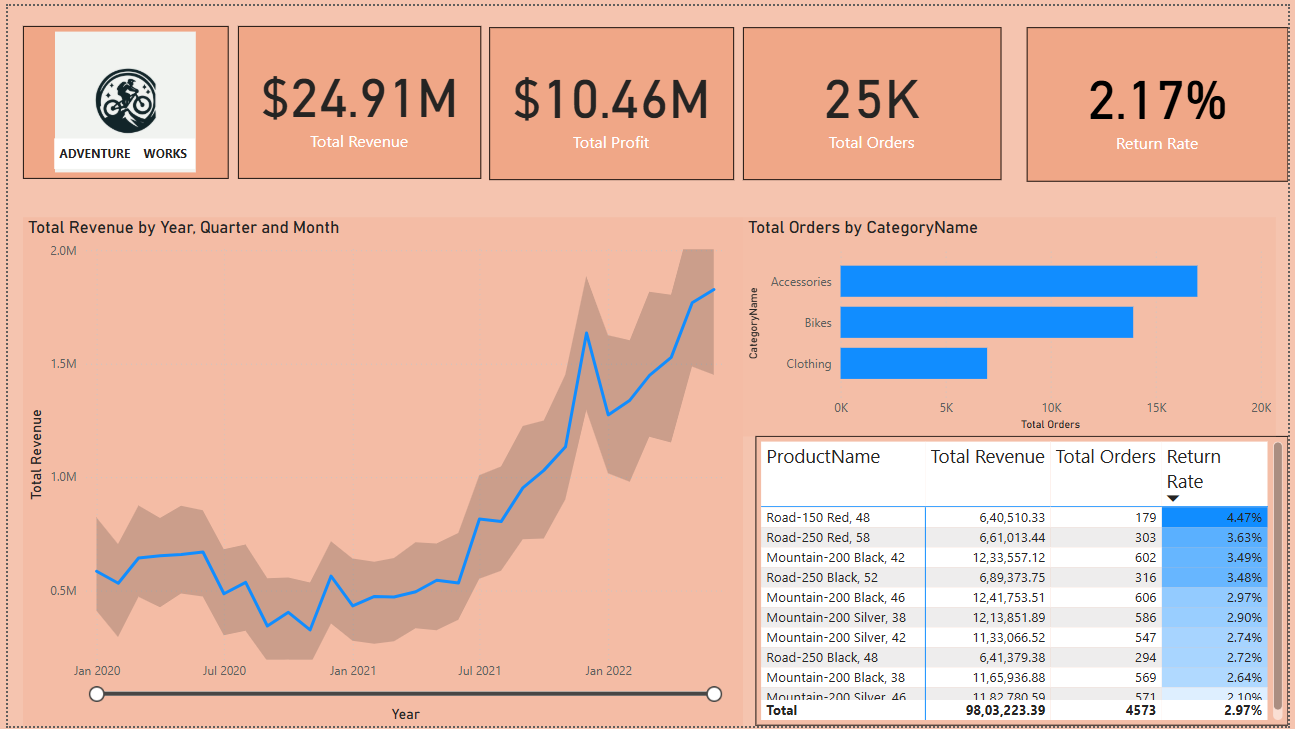

The dashboard page shown, as its layout file describes it:
{"tool":"powerbi","page":{"name":"Dashboard","canvas":[1280,720],"ordinal":0},"visuals":[{"type":"card","fields":{"Values":["MEASURE TABLE.Total Revenue"]},"box":[229.9,19.6,243.3,152.9],"z":0},{"type":"card","fields":{"Values":["MEASURE TABLE.Total Profit"]},"box":[481.8,20.8,244.6,152.9],"z":1000},{"type":"card","fields":{"Values":["MEASURE TABLE.Total Orders"]},"box":[734.9,20.8,258,152.9],"z":2000},{"type":"card","fields":{"Values":["MEASURE TABLE.Return Rate"]},"box":[1018.6,20.8,261.7,154.1],"z":3000},{"type":"lineChart","fields":{"Category":["Calendar Lookup.Start of Month.Variation.Date Hierarchy.Year","Calendar Lookup.Start of Month.Variation.Date Hierarchy.Quarter","Calendar Lookup.Start of Month.Variation.Date Hierarchy.Month","Calendar Lookup.Start of Month.Variation.Date Hierarchy.Day"],"Y":["MEASURE TABLE.Total Revenue"]},"box":[14.7,211.6,720.2,508.7],"z":4000},{"type":"pivotTable","fields":{"Rows":["Product Lookup.ProductName"],"Values":["MEASURE TABLE.Total Revenue","MEASURE TABLE.Total Orders","MEASURE TABLE.Return Rate"]},"box":[747.2,430.4,533.2,289.8],"z":5000},{"type":"clusteredBarChart","fields":{"Category":["Product Categories Lookup.CategoryName"],"Y":["MEASURE TABLE.Total Orders"]},"box":[734.9,211.6,533.2,218.9],"z":6000},{"type":"image","box":[14.7,19.6,205.4,152.9],"z":7000},{"type":"textbox","box":[46.5,132.1,140.6,30.6],"z":8000}]}

Visuals, with their boxes in screenshot pixels (x1, y1, x2, y2), scaled from the page's 1280x720 canvas onto the 1295x729 screenshot:
card - MEASURE TABLE.Total Revenue: 233 20 479 175
card - MEASURE TABLE.Total Profit: 487 21 735 176
card - MEASURE TABLE.Total Orders: 744 21 1005 176
card - MEASURE TABLE.Return Rate: 1031 21 1294 177
lineChart - Calendar Lookup.Start of Month.Variation.Date Hierarchy.Year x Calendar Lookup.Start of Month.Variation.Date Hierarchy.Quarter: 15 214 744 728
pivotTable - Product Lookup.ProductName x MEASURE TABLE.Total Revenue: 756 436 1294 728
clusteredBarChart - Product Categories Lookup.CategoryName x MEASURE TABLE.Total Orders: 744 214 1283 436
image: 15 20 223 175
textbox: 47 134 189 165
